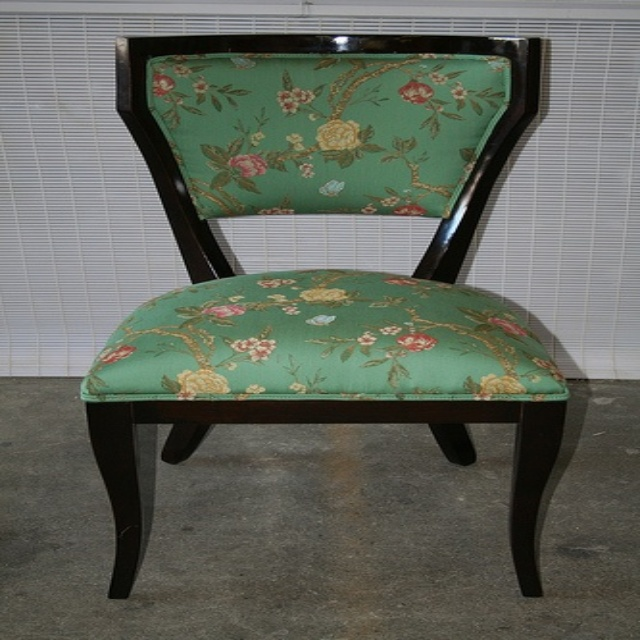obstacle: (83, 35, 567, 596)
